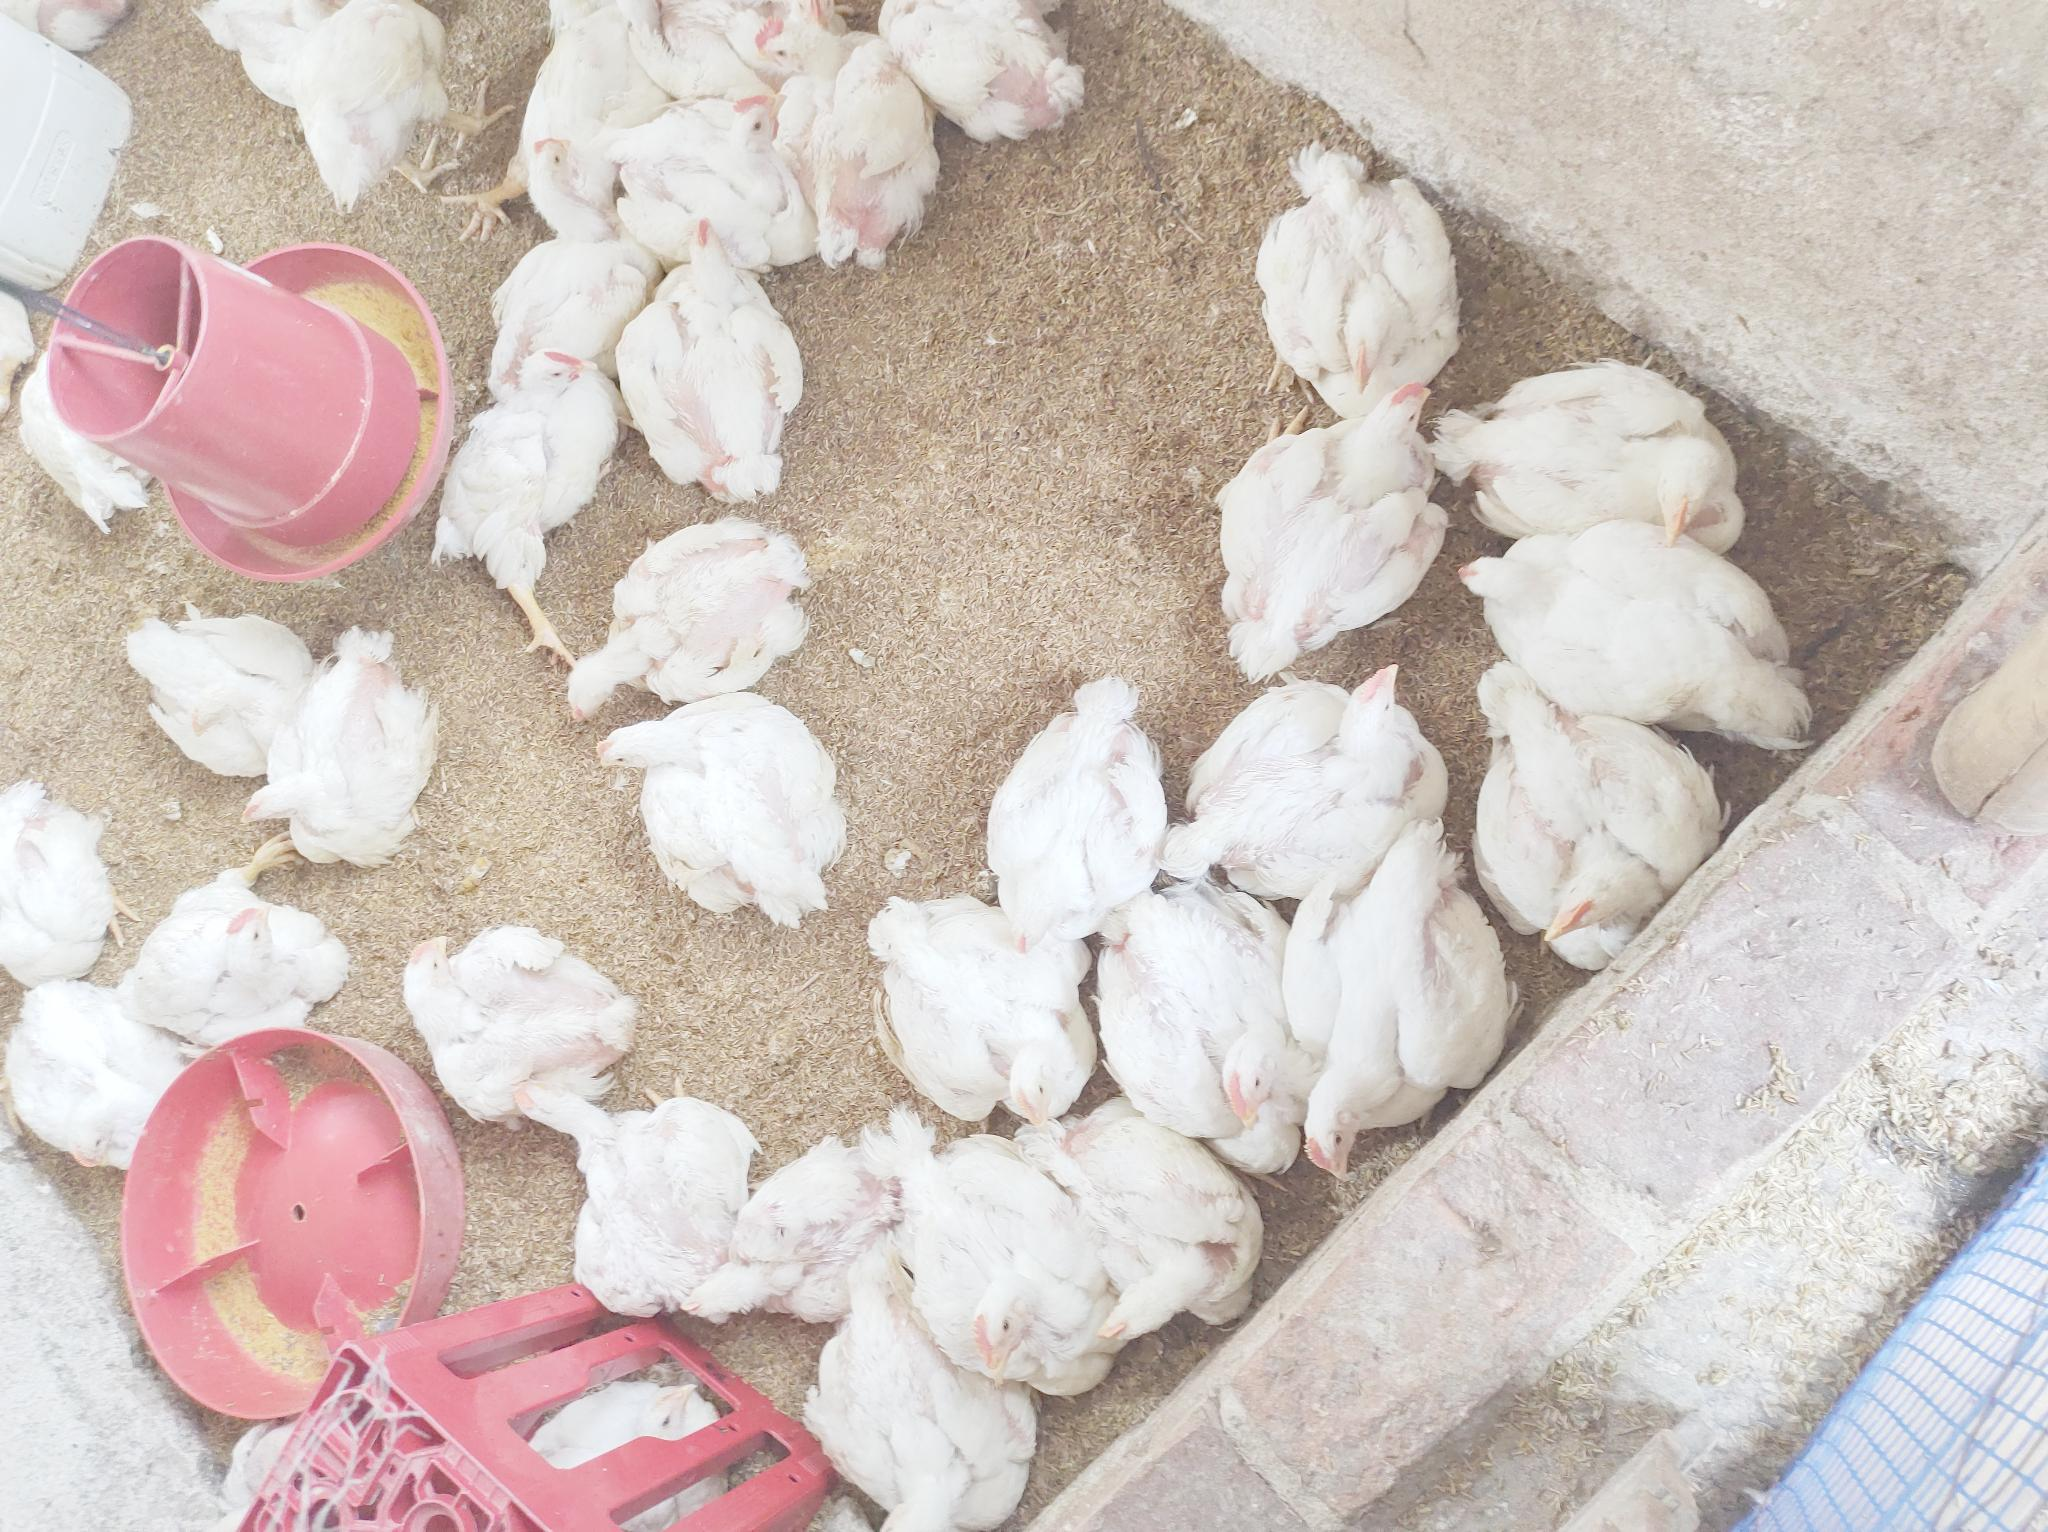Pollos: (1458, 521, 1821, 760), (1480, 655, 1710, 995), (1010, 1073, 1273, 1353), (492, 1060, 775, 1318), (1211, 375, 1446, 677), (1450, 333, 1760, 562), (1302, 819, 1480, 1213), (1088, 895, 1339, 1167), (1166, 655, 1446, 888), (581, 698, 861, 924), (845, 888, 1113, 1110), (618, 200, 811, 502), (550, 513, 822, 727), (808, 1283, 1044, 1524), (393, 912, 647, 1131), (980, 677, 1191, 938), (1258, 142, 1461, 406), (745, 11, 941, 282), (906, 1118, 1091, 1403), (428, 336, 624, 594), (222, 632, 446, 858), (227, 0, 449, 222), (714, 1130, 960, 1318), (114, 863, 343, 1038), (111, 599, 314, 789), (613, 93, 820, 272), (11, 966, 191, 1163), (473, 121, 627, 349), (502, 6, 672, 187), (883, 0, 1096, 142), (10, 340, 154, 534), (0, 755, 100, 1012), (520, 1374, 709, 1466)
